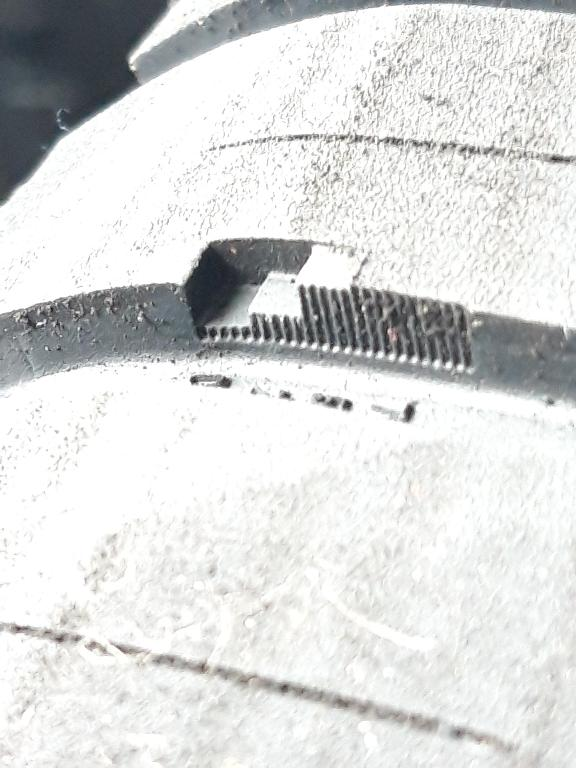temoin:50: (168, 228, 378, 367)
